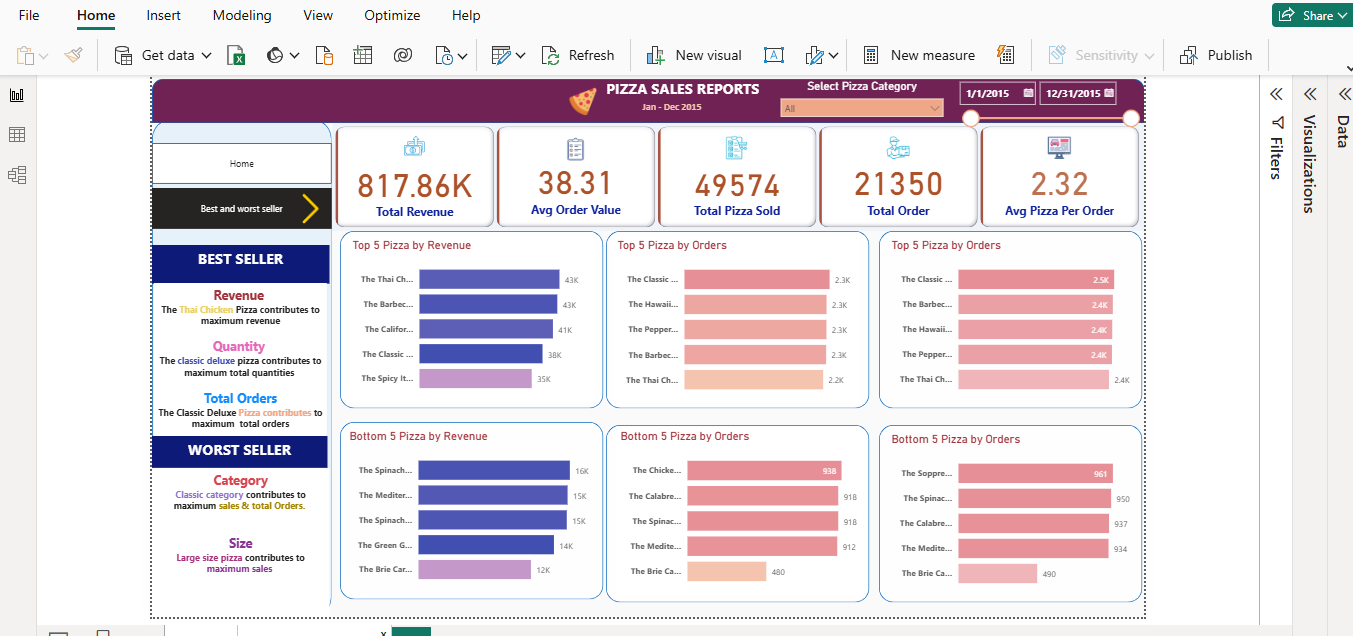

Layout of this report page (visuals, bound fields, positions):
{"tool":"powerbi","page":{"name":"Best and worst seller","canvas":[1465,800],"ordinal":1},"visuals":[{"type":"shape","box":[0,65,265,735],"z":0},{"type":"shape","box":[0,6.5,1465,65],"z":1000},{"type":"cardVisual","fields":{"Data":["pizza_sales1.Total Revenue","pizza_sales1.Avg Order Value","pizza_sales1.Total Pizza Sold","pizza_sales1.Total Order","pizza_sales1.Avg Pizza Per Order"]},"box":[265,71.5,1200,159.3],"z":2000},{"type":"textbox","box":[695.9,32.5,144.7,39],"z":3000},{"type":"group","id":"g1","title":"Group 1","box":[582.5,276.4,252,2.6],"z":4000},{"type":"textbox","box":[626,0,315.4,40.7],"z":5000},{"type":"textbox","box":[582.5,276.4,252,2.6],"z":5500,"group":"g1"},{"type":"image","box":[580.5,13,112.2,52],"z":6000},{"type":"textbox","box":[0,250.4,261.8,56.9],"z":7000},{"type":"textbox","box":[3.3,307.3,255.3,226],"z":8000},{"type":"textbox","box":[0,580.5,261.8,219.5],"z":9000},{"type":"textbox","box":[0,533.3,258.5,47.2],"z":10000},{"type":"slicer","title":"Select Pizza Category","fields":{"Values":["pizza_sales1.pizza_category"]},"box":[918.7,6.5,260.2,58.5],"z":11000},{"type":"slicer","title":"Select Pizza Category","fields":{"Values":["pizza_sales1.order_date"]},"box":[1178.9,0,286.2,87.8],"z":12000},{"type":"shape","box":[278,230.9,388.6,261.8],"z":13000},{"type":"shape","box":[669.9,230.9,388.6,261.8],"z":14000},{"type":"shape","box":[669.9,517.1,388.6,261.8],"z":15000},{"type":"shape","box":[278,512.2,388.6,261.8],"z":16000},{"type":"shape","box":[1073.2,230.9,388.6,261.8],"z":17000},{"type":"clusteredBarChart","title":"Top 5 Pizza by Revenue","fields":{"Category":["pizza_sales1.pizza_name"],"Y":["pizza_sales1.Total Revenue"]},"box":[291.1,240.7,364.2,242.3],"z":18000},{"type":"clusteredBarChart","title":"Bottom 5 Pizza by Revenue","fields":{"Category":["pizza_sales1.pizza_name"],"Y":["pizza_sales1.Total Revenue"]},"box":[286.2,522,375.6,242.3],"z":19000},{"type":"clusteredBarChart","title":"Top 5 Pizza by Orders","fields":{"Category":["pizza_sales1.pizza_name"],"Y":["Count(pizza_sales1.order_id)"]},"box":[682.5,240.3,363.4,244.2],"z":20000},{"type":"clusteredBarChart","title":"Bottom 5 Pizza by Orders","fields":{"Category":["pizza_sales1.pizza_name"],"Y":["Count(pizza_sales1.order_id)"]},"box":[686.2,522,362.6,245.5],"z":21000},{"type":"clusteredBarChart","title":"Top 5 Pizza by Orders","fields":{"Category":["pizza_sales1.pizza_name"],"Y":["Sum(pizza_sales1.quantity)"]},"box":[1086.2,240.7,362.6,243.9],"z":22000},{"type":"shape","box":[1073.2,517.1,388.6,261.8],"z":23000},{"type":"clusteredBarChart","title":"Bottom 5 Pizza by Orders","fields":{"Category":["pizza_sales1.pizza_name"],"Y":["Sum(pizza_sales1.quantity)"]},"box":[1086.2,526.8,362.6,243.9],"z":24000},{"type":"pageNavigator","box":[0,100.8,265,60],"z":25000},{"type":"pageNavigator","box":[0,167.5,265,60],"z":26000},{"type":"image","box":[206.5,167.5,55.3,60.2],"z":26001}]}

Visuals, with their boxes on the page's 1465x800 design canvas (x1, y1, x2, y2). These are canvas units, not pixel positions in the 1353x636 screenshot, which may show the page scaled, cropped or inside an application window:
shape: (left=0, top=65, right=265, bottom=800)
shape: (left=0, top=6, right=1465, bottom=72)
cardVisual - pizza_sales1.Total Revenue x pizza_sales1.Avg Order Value: (left=265, top=72, right=1465, bottom=231)
textbox: (left=696, top=32, right=841, bottom=72)
"Group 1" group: (left=582, top=276, right=834, bottom=279)
textbox: (left=626, top=0, right=941, bottom=41)
textbox: (left=582, top=276, right=834, bottom=279)
image: (left=580, top=13, right=693, bottom=65)
textbox: (left=0, top=250, right=262, bottom=307)
textbox: (left=3, top=307, right=259, bottom=533)
textbox: (left=0, top=580, right=262, bottom=800)
textbox: (left=0, top=533, right=258, bottom=580)
"Select Pizza Category" slicer: (left=919, top=6, right=1179, bottom=65)
"Select Pizza Category" slicer: (left=1179, top=0, right=1465, bottom=88)
shape: (left=278, top=231, right=667, bottom=493)
shape: (left=670, top=231, right=1058, bottom=493)
shape: (left=670, top=517, right=1058, bottom=779)
shape: (left=278, top=512, right=667, bottom=774)
shape: (left=1073, top=231, right=1462, bottom=493)
"Top 5 Pizza by Revenue" clusteredBarChart: (left=291, top=241, right=655, bottom=483)
"Bottom 5 Pizza by Revenue" clusteredBarChart: (left=286, top=522, right=662, bottom=764)
"Top 5 Pizza by Orders" clusteredBarChart: (left=682, top=240, right=1046, bottom=484)
"Bottom 5 Pizza by Orders" clusteredBarChart: (left=686, top=522, right=1049, bottom=768)
"Top 5 Pizza by Orders" clusteredBarChart: (left=1086, top=241, right=1449, bottom=485)
shape: (left=1073, top=517, right=1462, bottom=779)
"Bottom 5 Pizza by Orders" clusteredBarChart: (left=1086, top=527, right=1449, bottom=771)
pageNavigator: (left=0, top=101, right=265, bottom=161)
pageNavigator: (left=0, top=168, right=265, bottom=228)
image: (left=206, top=168, right=262, bottom=228)
